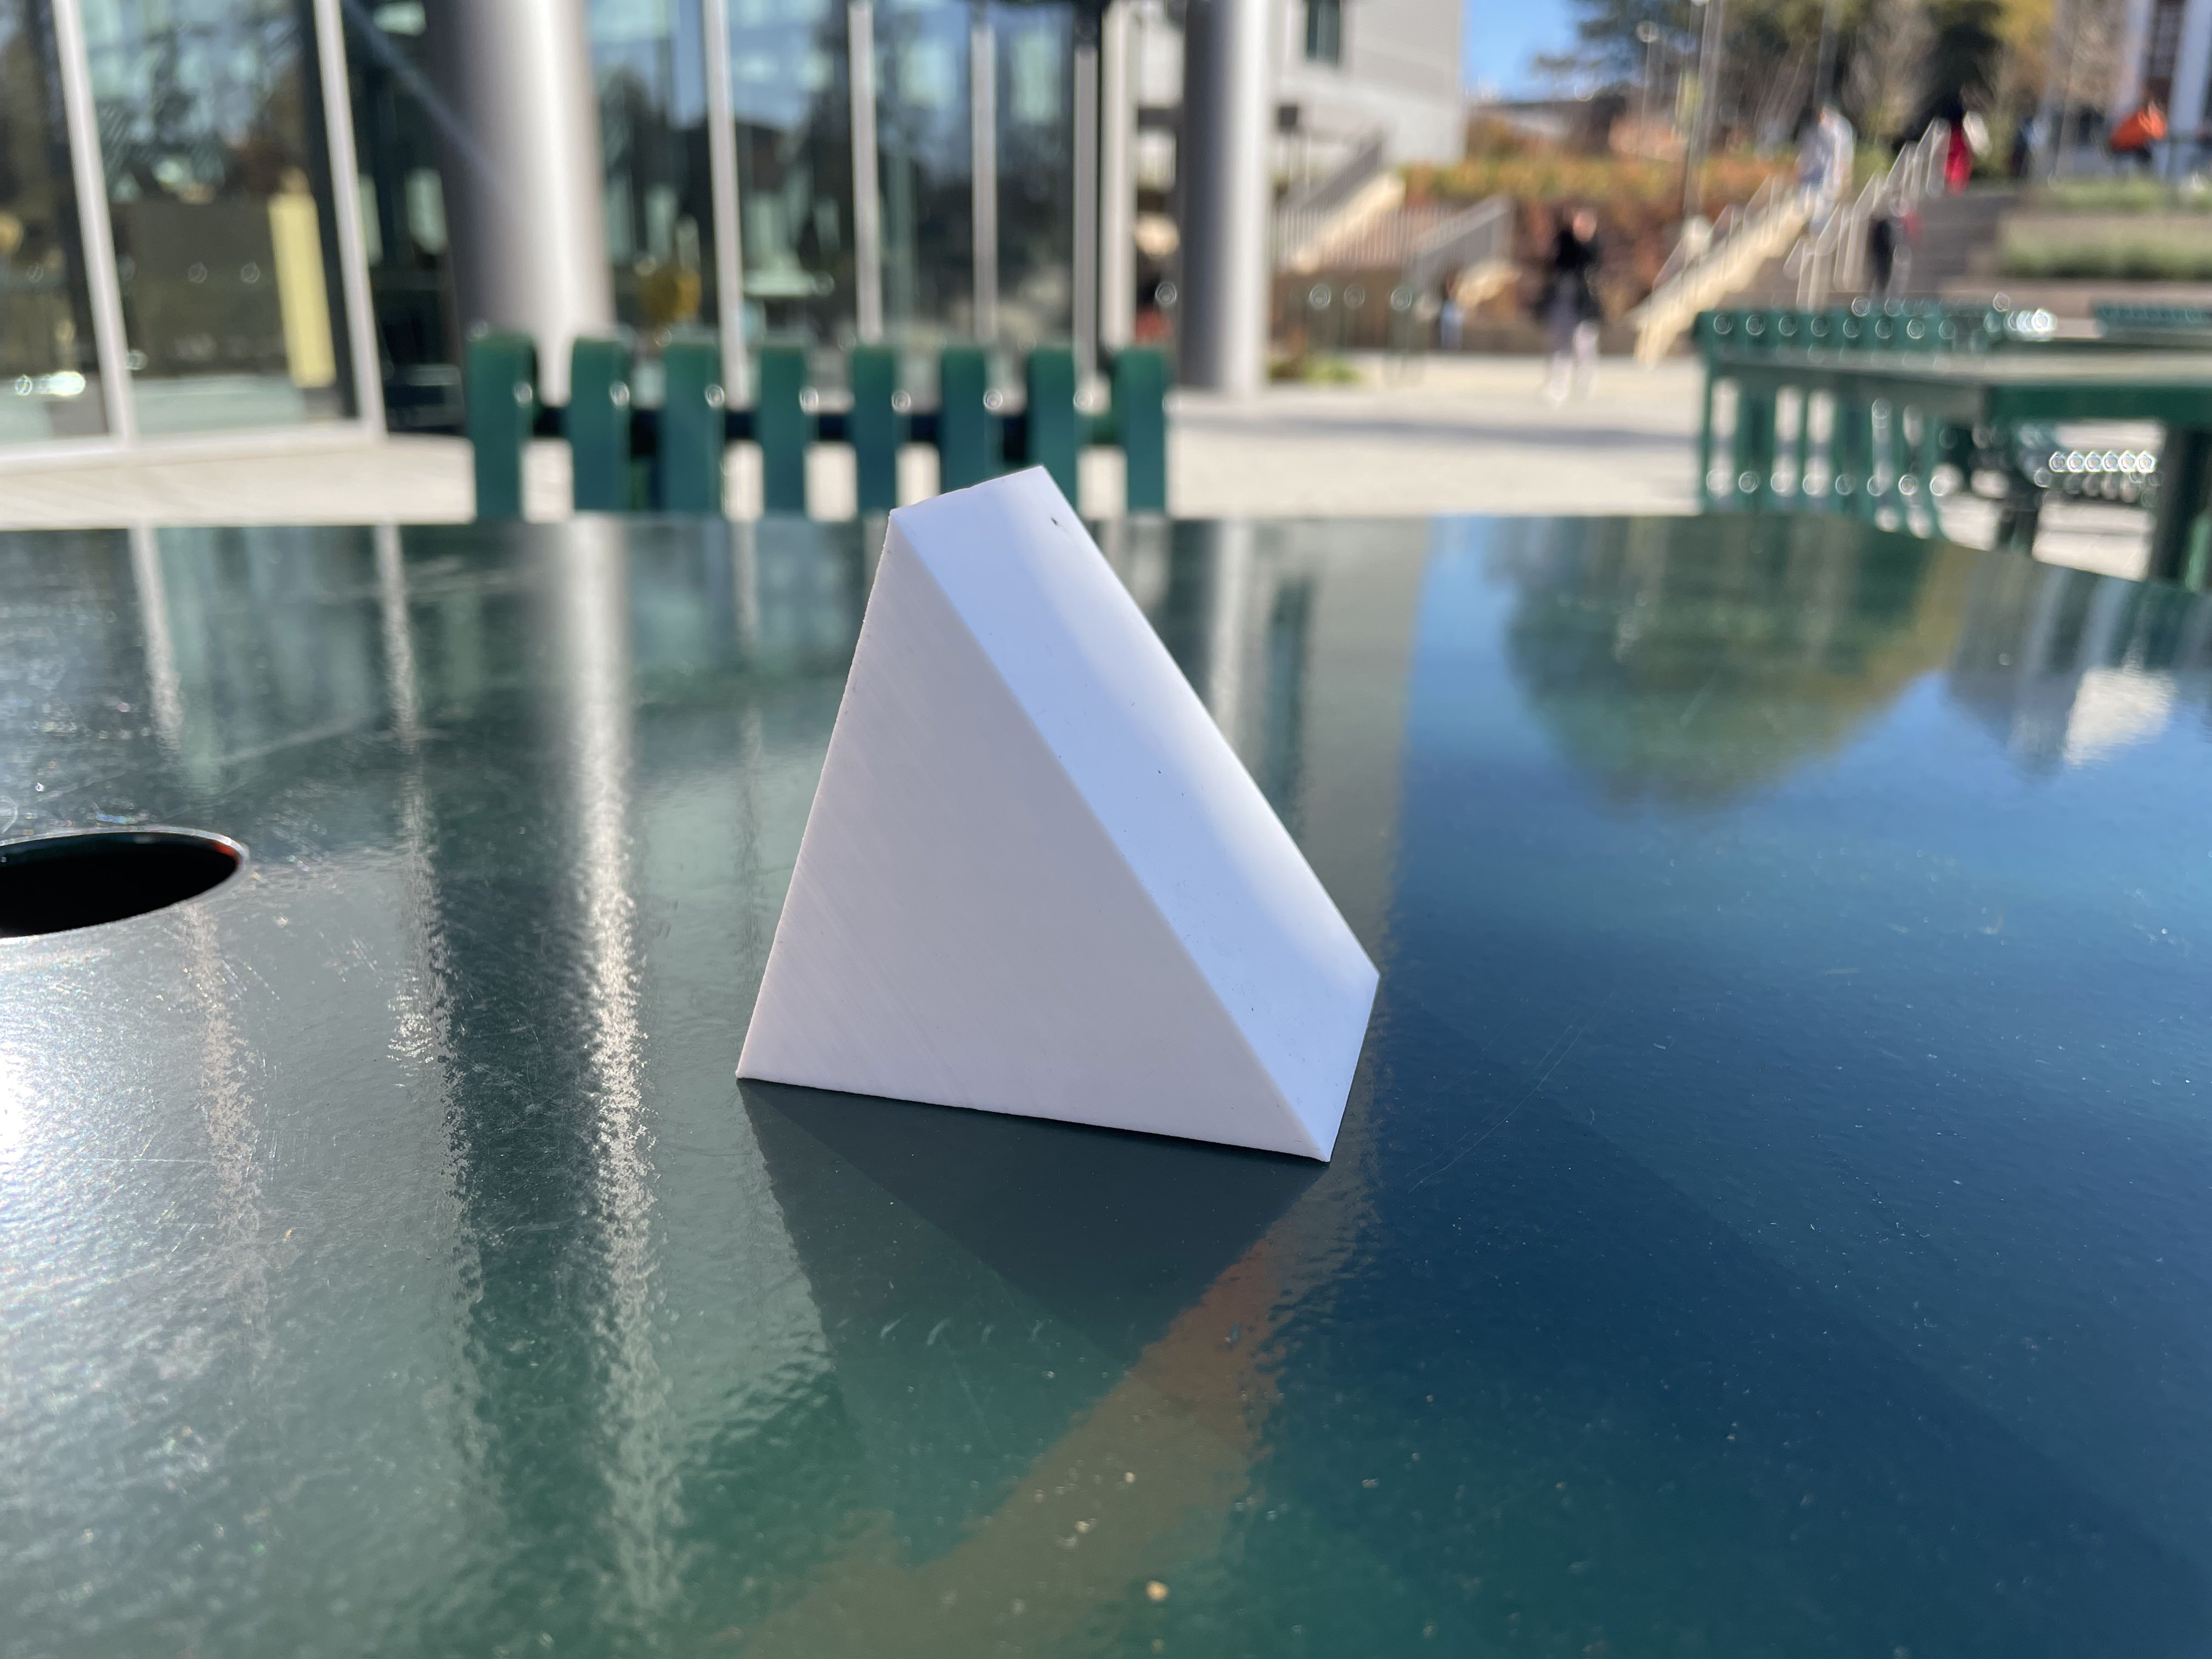payload2: (685, 432, 1414, 1239)
